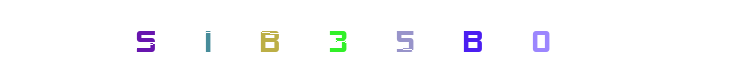0: (432, 0, 512, 80)
3: (299, 0, 379, 80)
5: (327, 0, 407, 80)
B: (230, 0, 310, 80), (415, 0, 495, 80)
I: (168, 0, 248, 80)
S: (106, 0, 186, 80)
